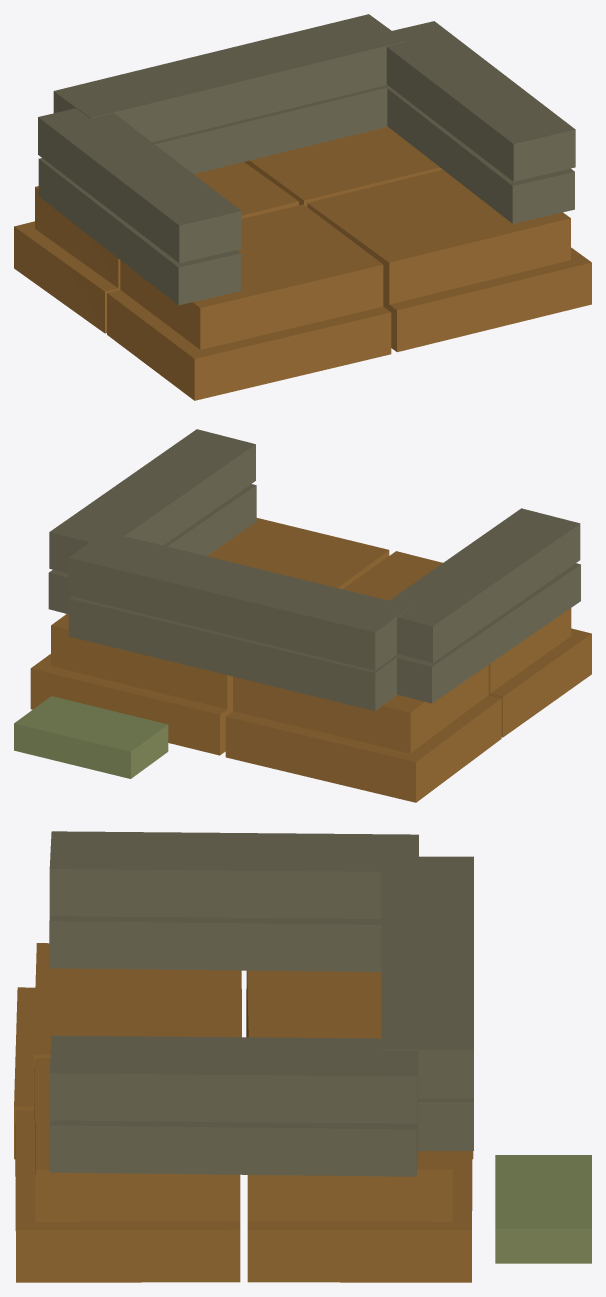
Rendered from SM_Nido_v0_LOD1.fbx.
3 views of the same model, one above another, from view 1: azimuth 30°, elevation 25°; view 2: azimuth 150°, elevation 25°; view 3: azimuth 270°, elevation 25° (orthographic). The views are drawn at different scales.
Visible parts, largest first — view 1: SM_banqueta_tiro_v5_LOD1; view 2: SM_banqueta_tiro_v5_LOD1; view 3: SM_banqueta_tiro_v5_LOD1.
Boxes of the visible parts, x1=… form: SM_banqueta_tiro_v5_LOD1: x1=14, y1=14, x2=591, y2=400; SM_banqueta_tiro_v5_LOD1: x1=14, y1=429, x2=591, y2=802; SM_banqueta_tiro_v5_LOD1: x1=14, y1=831, x2=591, y2=1282.
Bounding box in the file's own units: 3.01 × 1.19 × 2.99.
